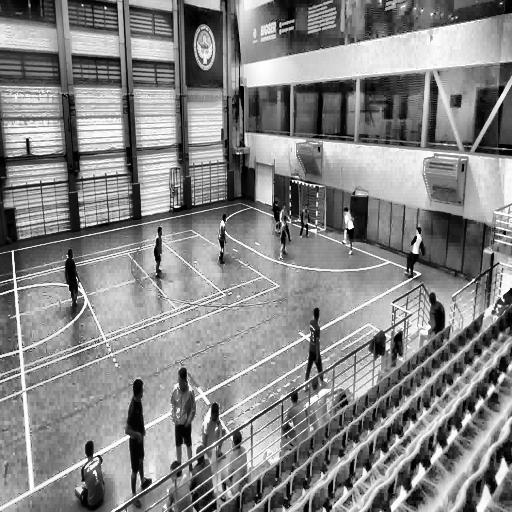player: (125, 380, 150, 501), (170, 366, 195, 472), (306, 308, 323, 386), (65, 248, 80, 312), (406, 226, 424, 277), (342, 206, 355, 256), (279, 205, 291, 258), (154, 225, 164, 278), (218, 212, 228, 264), (299, 205, 310, 240)
